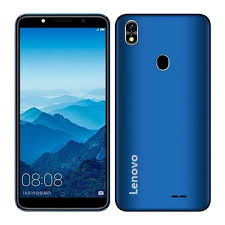lenovo: (11, 11, 111, 215), (113, 10, 213, 214)
